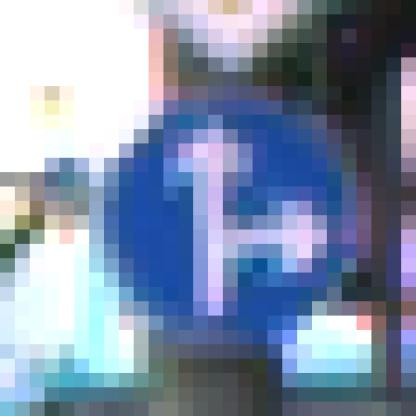Straight or Right: (90, 73, 343, 345)
